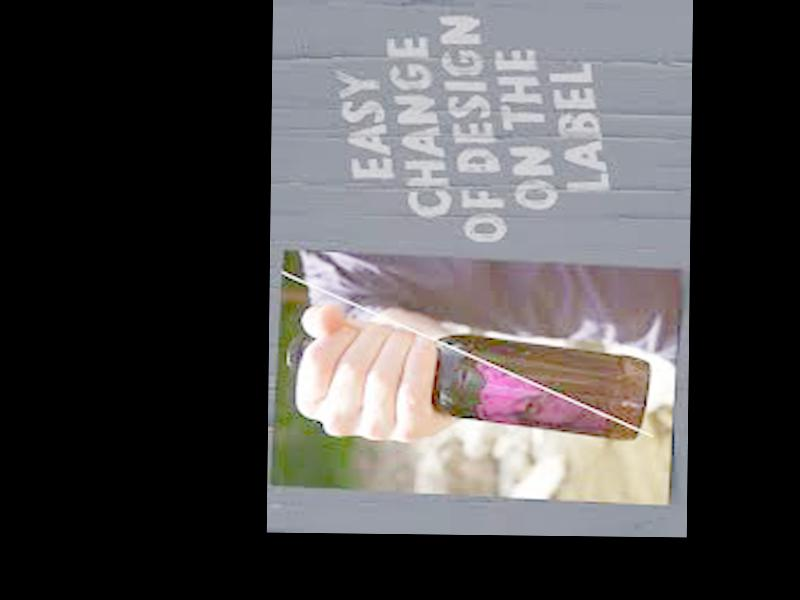Beer: (288, 330, 650, 436)
